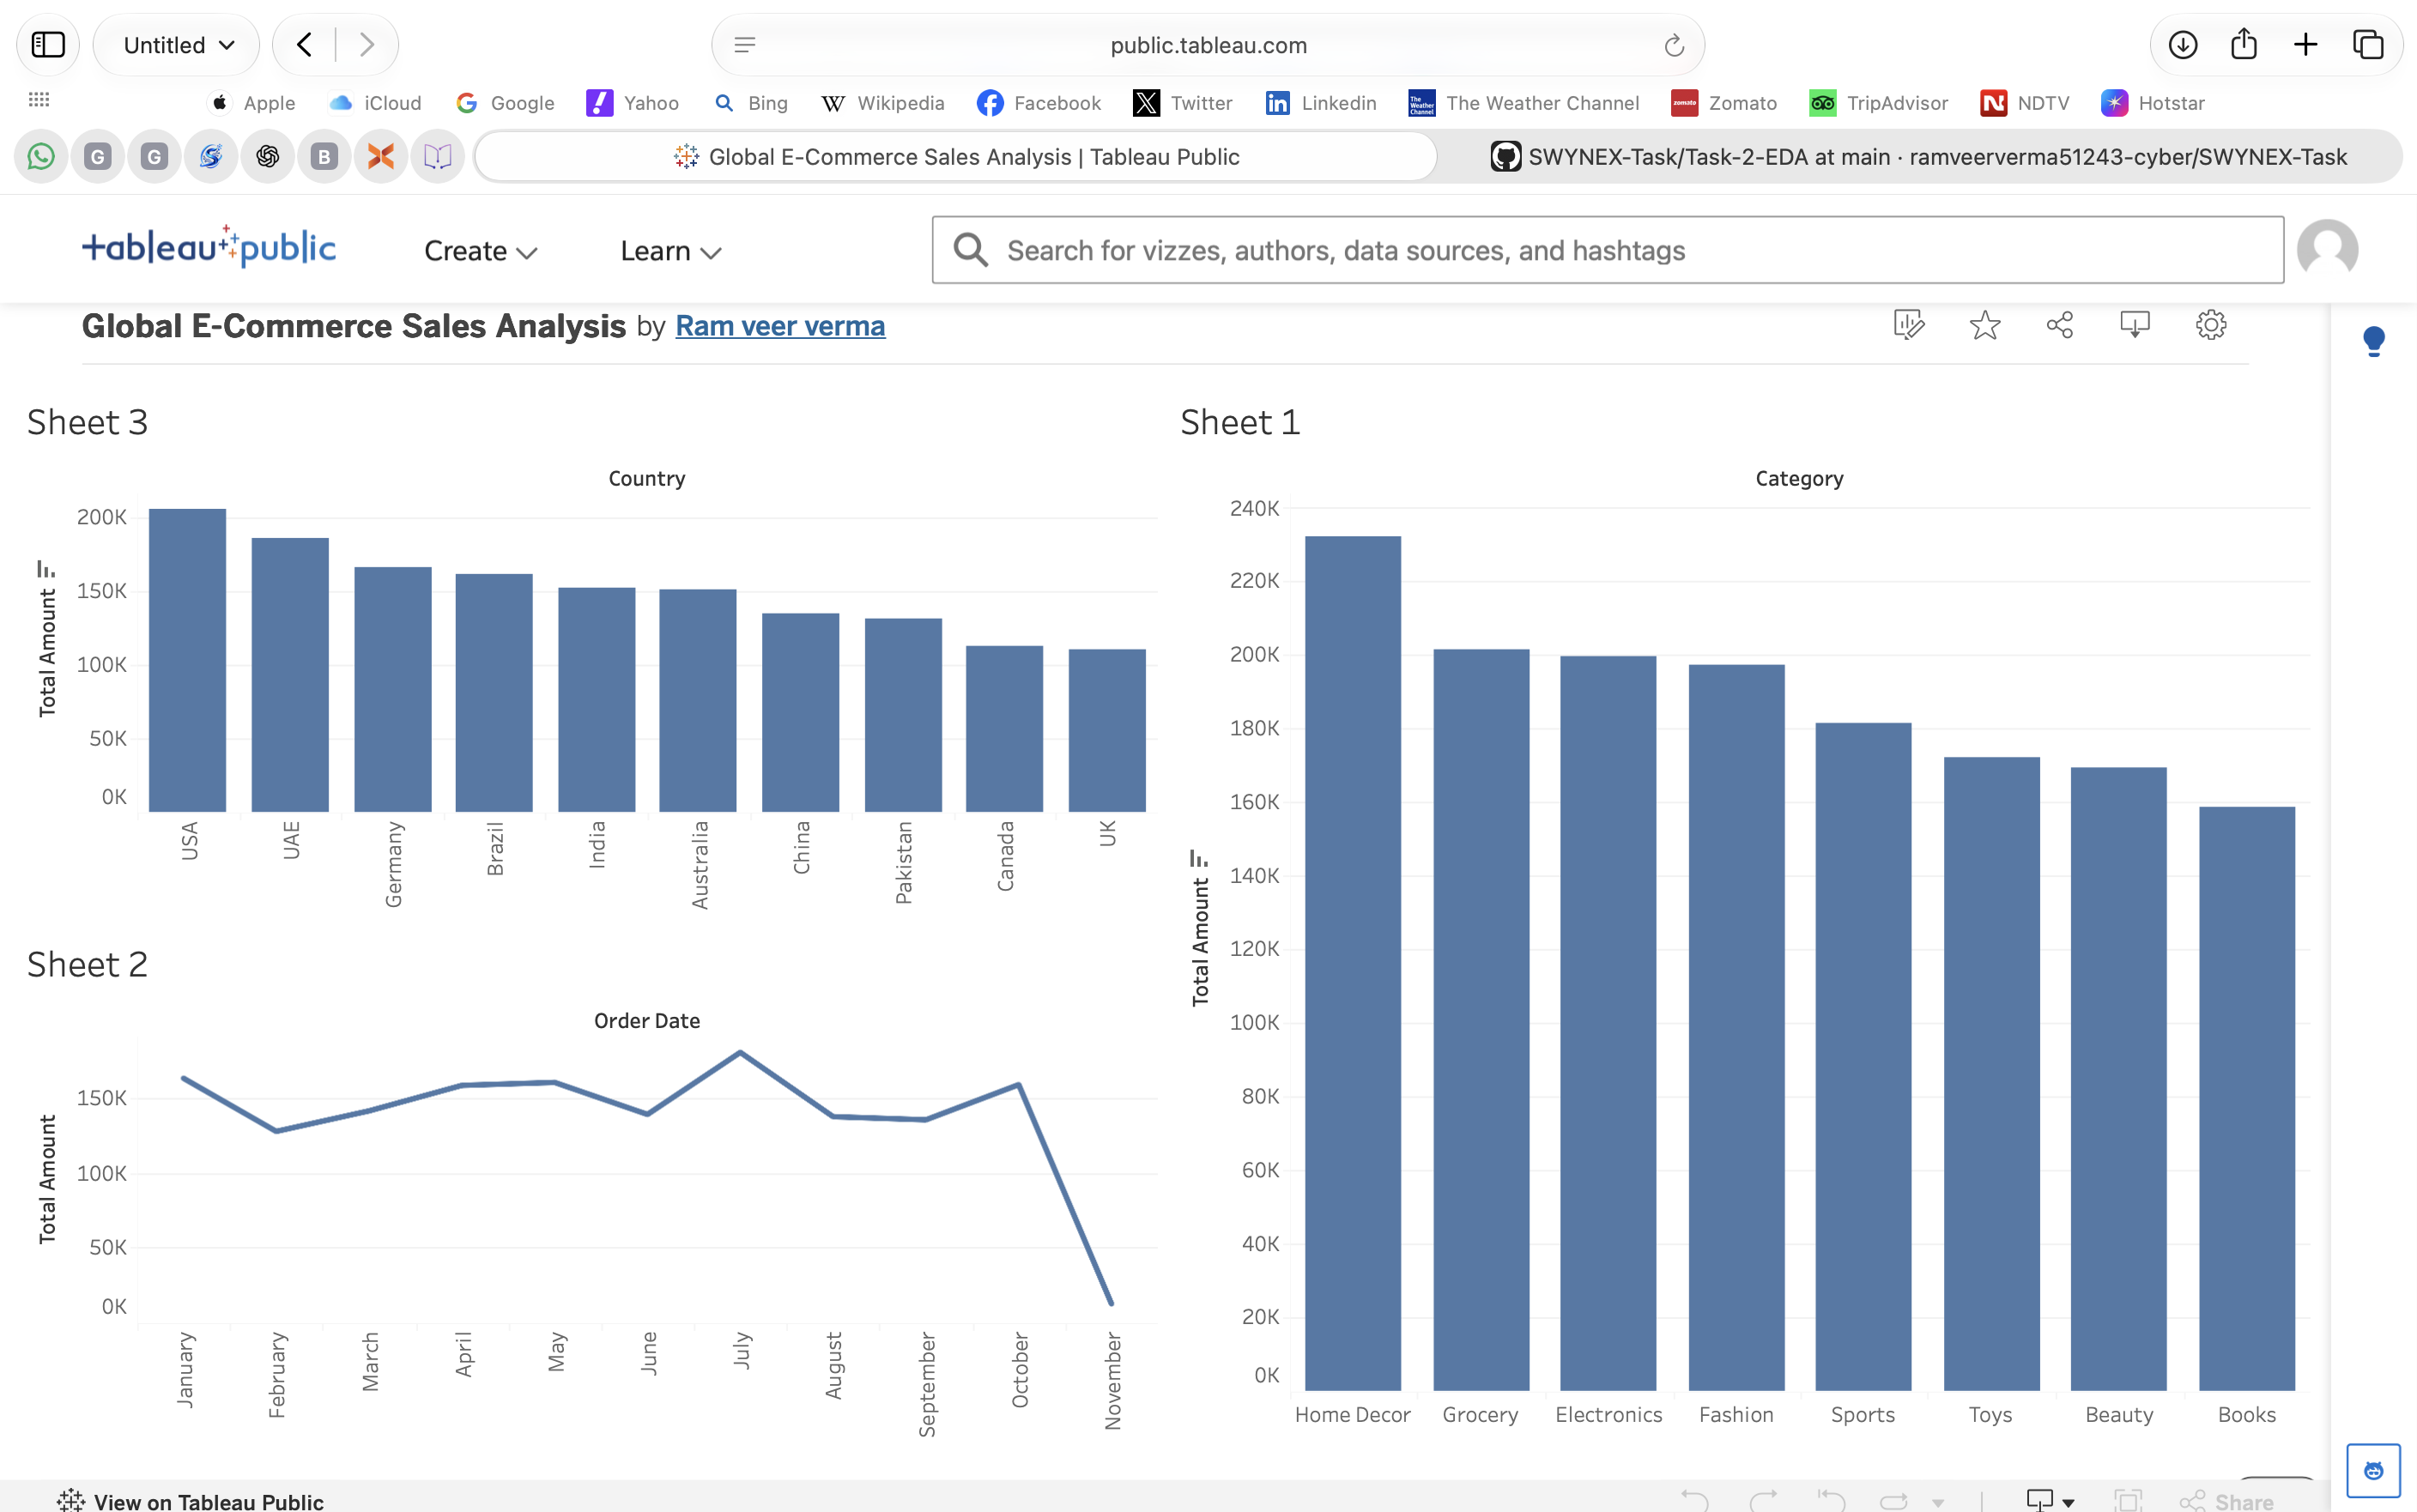

Layout of this report page (visuals, bound fields, positions):
{"tool":"powerbi","page":{"name":"Page 1","canvas":[1920,1080],"ordinal":0},"visuals":[{"type":"cardVisual","title":"Total Sales","fields":{"Data":["global_ecommerce_sales_cleaned csv.Total Sales"]},"box":[20,200,455,150],"z":0},{"type":"cardVisual","title":"Total Orders","fields":{"Data":["global_ecommerce_sales_cleaned csv.Total Orders"]},"box":[495,200,455,150],"z":1000},{"type":"cardVisual","title":"Total Quantity","fields":{"Data":["Sum(global_ecommerce_sales_cleaned csv.Quantity)"]},"box":[970,200,455,150],"z":2000},{"type":"barChart","title":"Sales by Country","fields":{"Category":["global_ecommerce_sales_cleaned csv.Country"],"Y":["Sum(global_ecommerce_sales_cleaned csv.Total_Amount)"]},"box":[975,370,925,330],"z":3000},{"type":"barChart","title":"Sales by Category","fields":{"Category":["global_ecommerce_sales_cleaned csv.Category"],"Y":["Sum(global_ecommerce_sales_cleaned csv.Total_Amount)"]},"box":[20,370,925,330],"z":4000},{"type":"lineChart","title":"Monthly Sales Trend","fields":{"Category":["global_ecommerce_sales_cleaned csv.Order_Date.Variation.Date Hierarchy.Year","global_ecommerce_sales_cleaned csv.Order_Date.Variation.Date Hierarchy.Month"],"Y":["Sum(global_ecommerce_sales_cleaned csv.Total_Amount)"]},"box":[20,720,1250,340],"z":5000},{"type":"slicer","title":"Category","fields":{"Values":["global_ecommerce_sales_cleaned csv.Category"]},"box":[20,100,380,80],"z":6000},{"type":"slicer","title":"Country","fields":{"Values":["global_ecommerce_sales_cleaned csv.Country"]},"box":[420,100,380,80],"z":7000},{"type":"tableEx","title":"Top 5 Categories by Sales","fields":{"Values":["global_ecommerce_sales_cleaned csv.Category","global_ecommerce_sales_cleaned csv.Total Sales","global_ecommerce_sales_cleaned csv.Total Orders"]},"box":[1290,720,610,340],"z":9000},{"type":"textbox","box":[20,12,1880,80],"z":9001},{"type":"cardVisual","title":"Average Order Value","fields":{"Data":["Avg(global_ecommerce_sales_cleaned csv.Total_Amount)"]},"box":[1445,200,455,150],"z":9100}]}

Visuals, with their boxes on the page's 1920x1080 design canvas (x1, y1, x2, y2). These are canvas units, not pixel positions in the 2417x1512 screenshot, which may show the page scaled, cropped or inside an application window:
"Total Sales" cardVisual: l=20, t=200, r=475, b=350
"Total Orders" cardVisual: l=495, t=200, r=950, b=350
"Total Quantity" cardVisual: l=970, t=200, r=1425, b=350
"Sales by Country" barChart: l=975, t=370, r=1900, b=700
"Sales by Category" barChart: l=20, t=370, r=945, b=700
"Monthly Sales Trend" lineChart: l=20, t=720, r=1270, b=1060
"Category" slicer: l=20, t=100, r=400, b=180
"Country" slicer: l=420, t=100, r=800, b=180
"Top 5 Categories by Sales" tableEx: l=1290, t=720, r=1900, b=1060
textbox: l=20, t=12, r=1900, b=92
"Average Order Value" cardVisual: l=1445, t=200, r=1900, b=350
